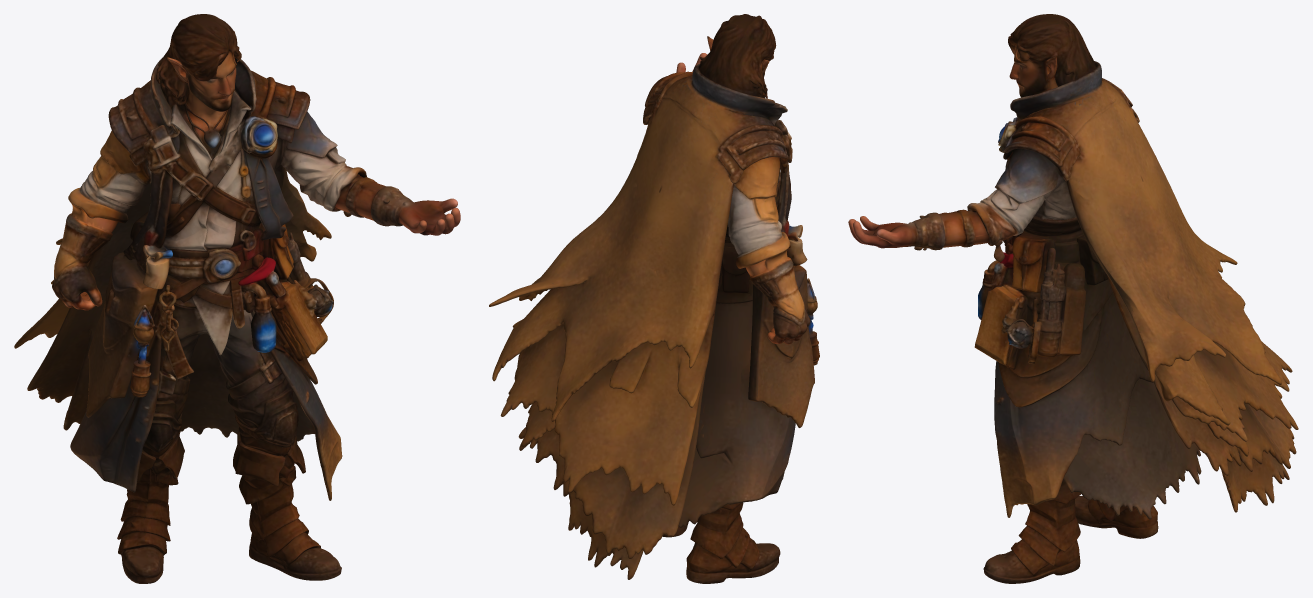
File: half_elf_artificer_full_male_01.glb
3 views of the same model, side by side, from view 1: azimuth 30°, elevation 25°; view 2: azimuth 150°, elevation 25°; view 3: azimuth 270°, elevation 25° (orthographic). The views are drawn at different scales.
Parts seen in each view (by area): view 1: material; view 2: material; view 3: material.
Boxes of the visible parts, x1,y1,x2,y2 form: material: [14, 14, 460, 583]; material: [489, 14, 819, 583]; material: [848, 14, 1298, 583].
Size of the model in its own units: 0.5879 by 1.08 by 0.852.
1 material, 1 textured.
